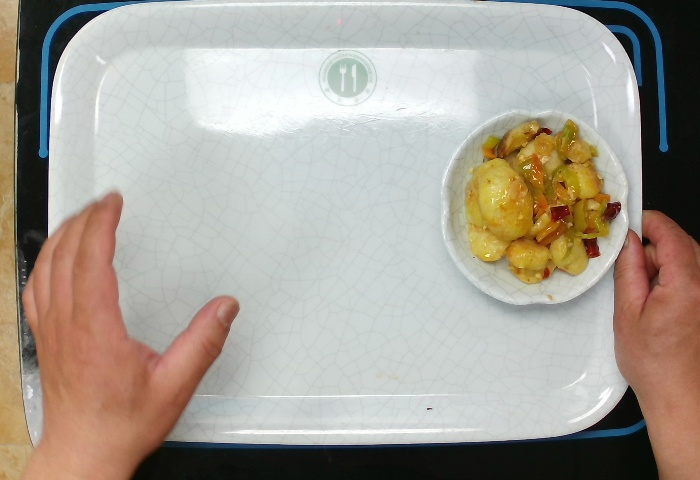JYsf-Ao_Yuan_Wan: (434, 106, 631, 307)
